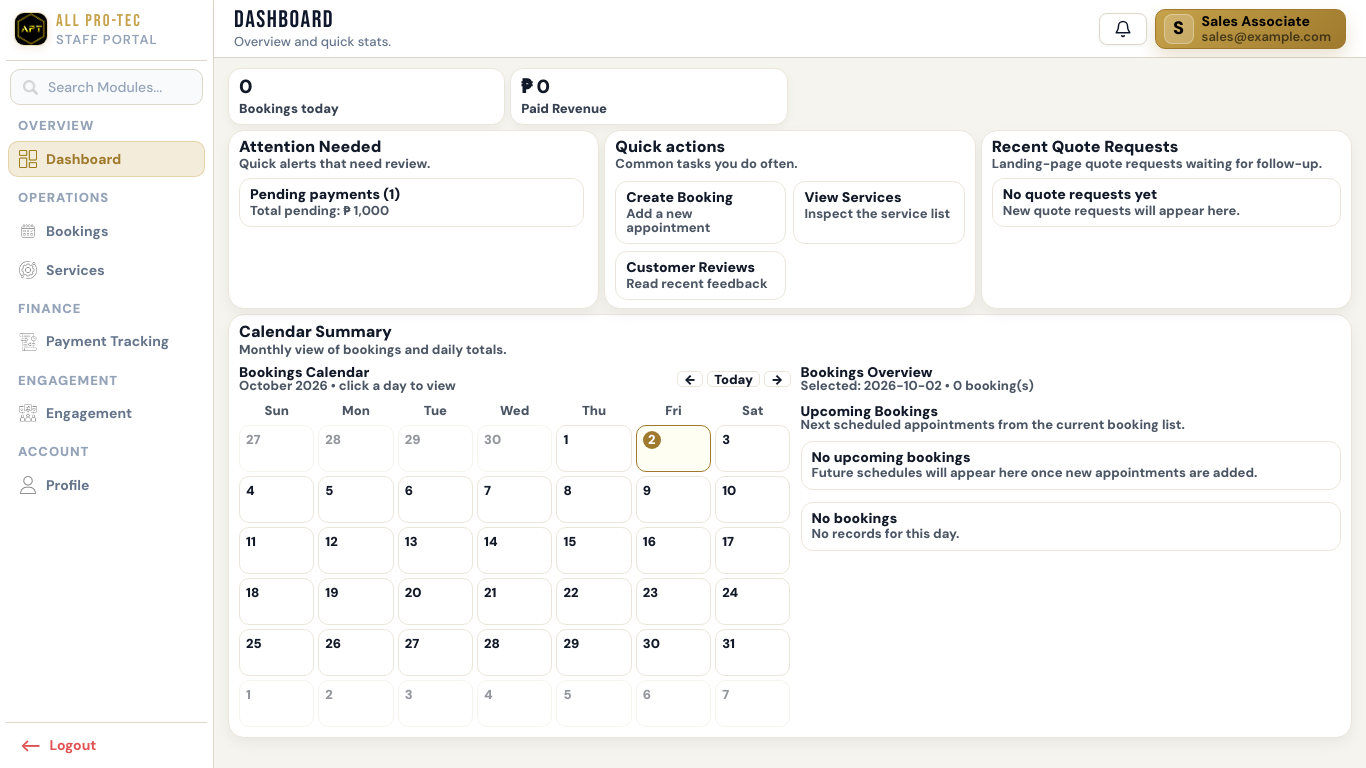
Test: Sales Associate authorization foundation shell › Dashboard Create Booking opens the shared Sales Associate New Booking modal
The width and height of the screenshot is (1366, 768).
Click the text "Create Booking".
click(701, 213)  # box left=615, top=181, right=786, bottom=244
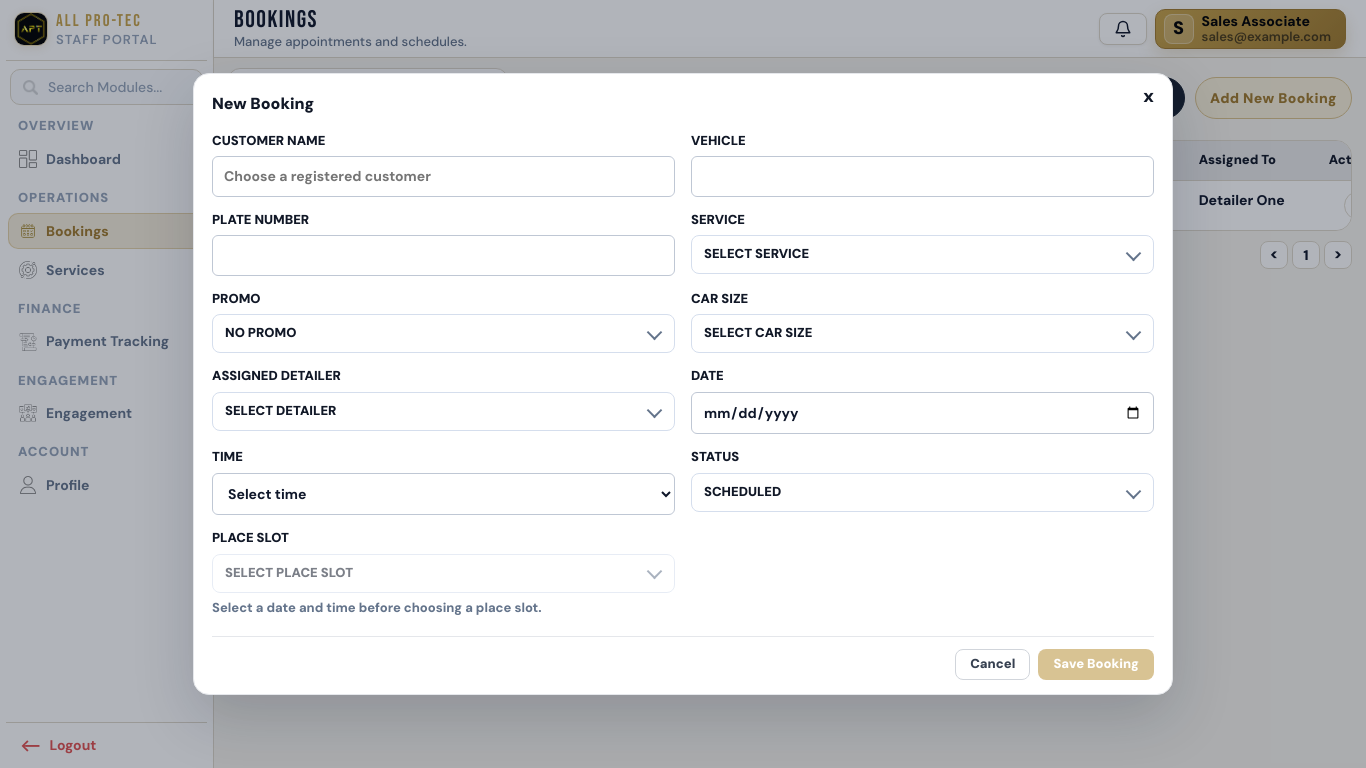
Now the button "Export as PDF" is shown, box left=1037, top=77, right=1185, bottom=119
Now the text "New Booking" is shown, box left=212, top=93, right=314, bottom=114
Now the button "Save Booking" is disabled, box left=1038, top=649, right=1154, bottom=680
